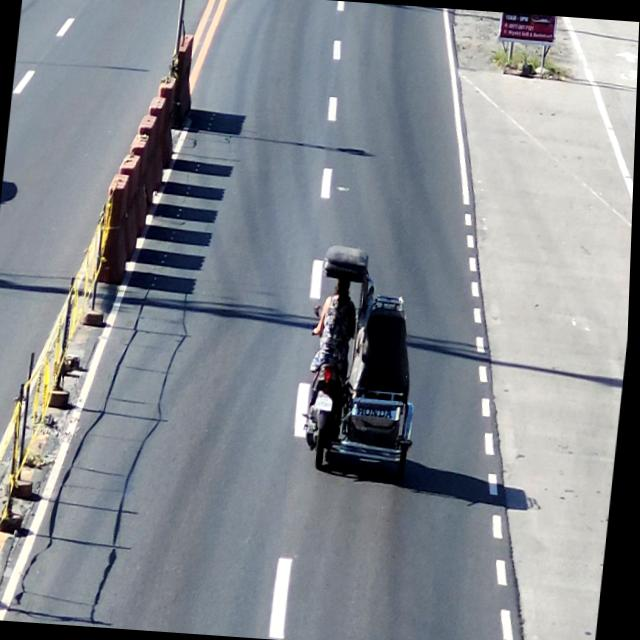License-Plate: (311, 392, 338, 417)
Tricycle: (293, 238, 439, 482)
